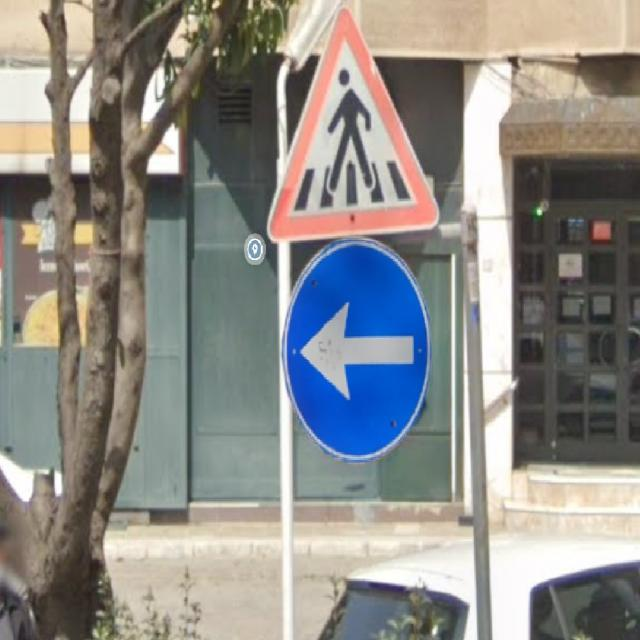Turn Left: (279, 237, 431, 466)
